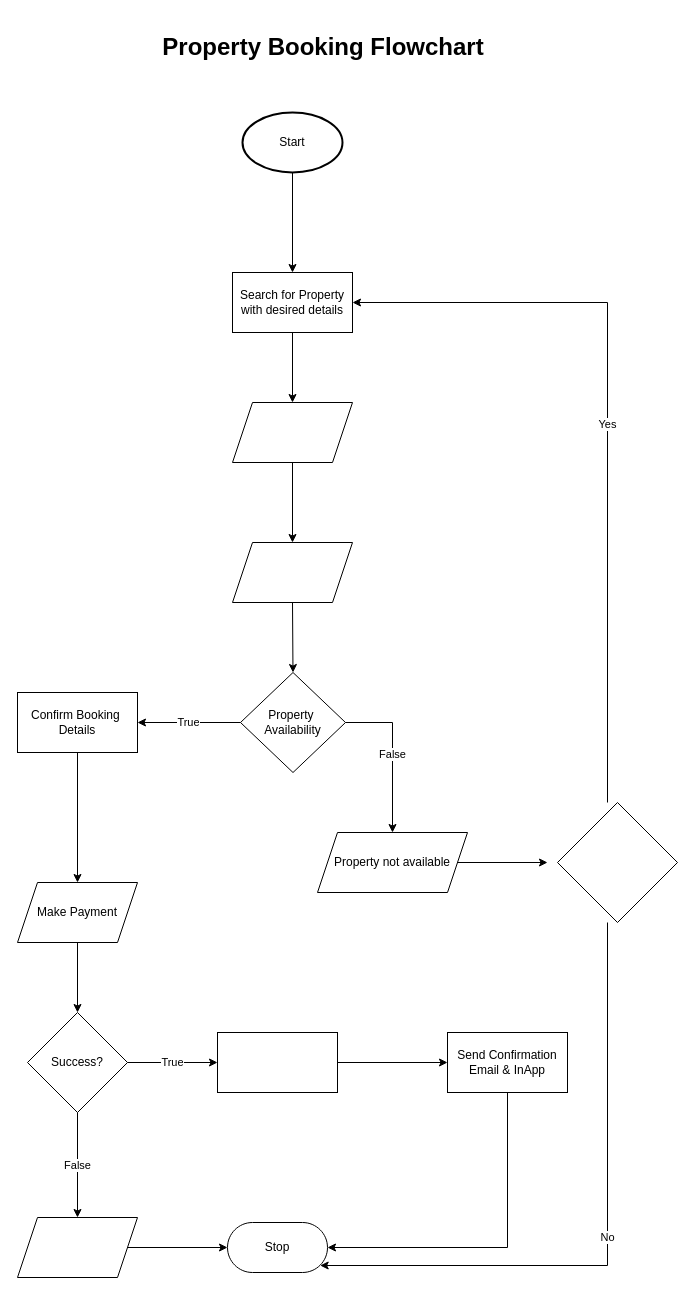
Some shapes in this 695 by 1295 pixel diagram are drawn without their labels. The centre of each missing label's shape, as x and y in pixels:
"Alternative Property?" goes at (x=617, y=862).
"Enter Date, NO. of Guests" goes at (x=292, y=572).
"Get Property Details Found" goes at (x=292, y=432).
"Save Booking" goes at (x=277, y=1062).
"Show Failure message" goes at (x=77, y=1247).
